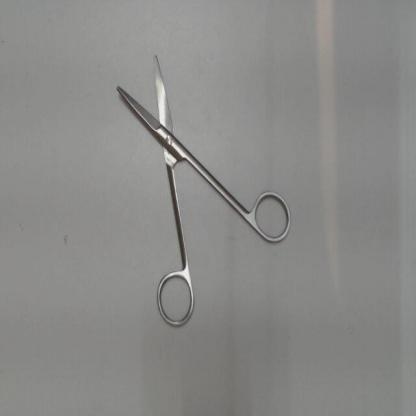Curved Mayo Scissors: (110, 38, 298, 334)
